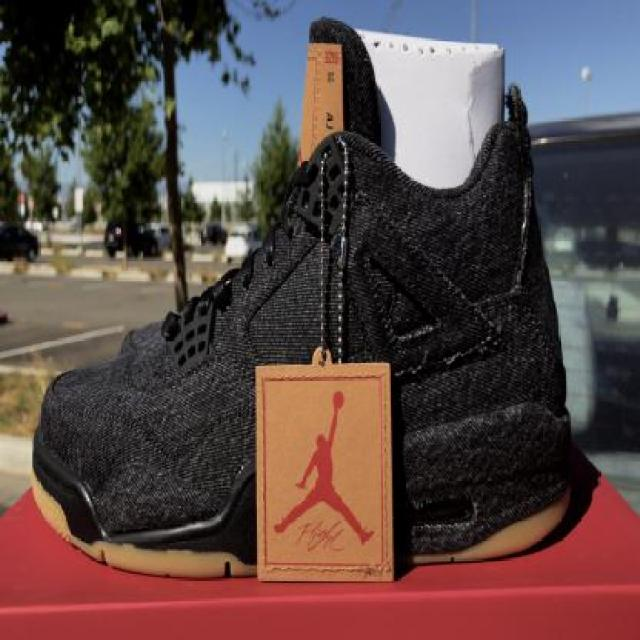shoe: (29, 14, 574, 583)
